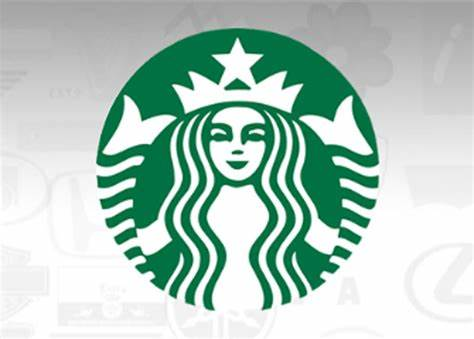starbucks Originale: (86, 23, 392, 321)
